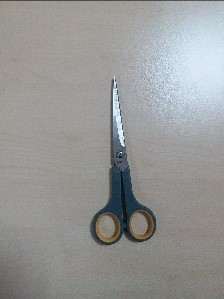scissors: (91, 73, 157, 251)
